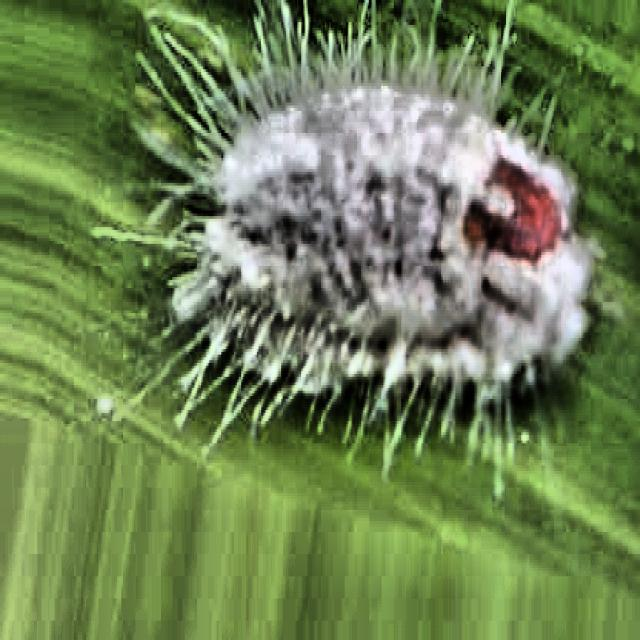Mealy-bug: (141, 4, 602, 451)
